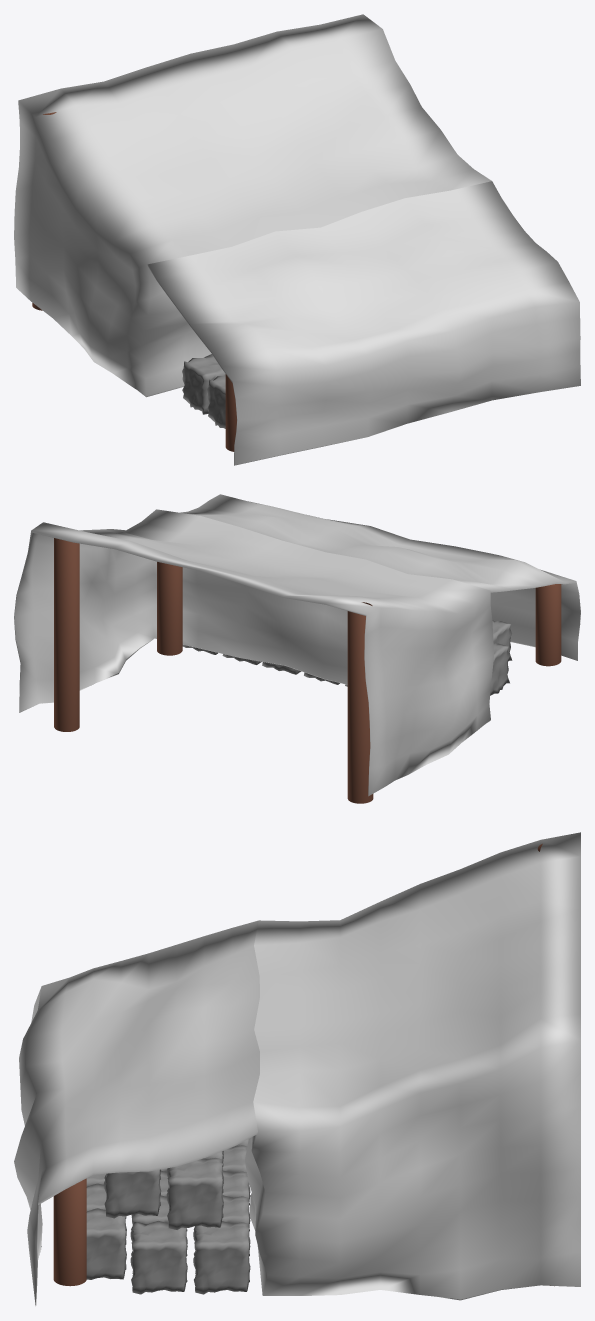
File: Quary.fbx
3 views of the same model, one above another, from view 1: azimuth 30°, elevation 25°; view 2: azimuth 150°, elevation 25°; view 3: azimuth 270°, elevation 25° (orthographic). The views are drawn at different scales.
Visible parts, largest first — view 1: Cylinder.001, Cube, Cube.001, Cylinder; view 2: Cylinder.001, Cylinder, Cube.001, Cube.002; view 3: Cylinder.001, Cube.013, Cube.012, Cube.022, Cylinder, Cube.015, Cube.014, Cube.017, Cube.018, Cube.011.
Part boxes in pixels (left/top/right/bottom): Cylinder.001: left=14, top=14, right=580, bottom=465; Cube: left=182, top=354, right=225, bottom=414; Cube.001: left=207, top=376, right=225, bottom=428; Cylinder: left=32, top=112, right=236, bottom=451; Cylinder.001: left=14, top=494, right=580, bottom=796; Cylinder: left=54, top=538, right=561, bottom=803; Cube.001: left=490, top=643, right=509, bottom=695; Cube.002: left=492, top=620, right=512, bottom=660; Cylinder.001: left=14, top=832, right=580, bottom=1305; Cube.013: left=130, top=1221, right=187, bottom=1294; Cube.012: left=193, top=1221, right=250, bottom=1294; Cube.022: left=166, top=1158, right=223, bottom=1229; Cylinder: left=53, top=843, right=554, bottom=1286; Cube.015: left=86, top=1208, right=126, bottom=1279; Cube.014: left=104, top=1169, right=161, bottom=1218; Cube.017: left=193, top=1195, right=250, bottom=1256; Cube.018: left=193, top=1170, right=250, bottom=1231; Cube.011: left=222, top=1145, right=250, bottom=1205.
Bounding box in the file's own units: 6.09 × 6.41 × 3.4.
